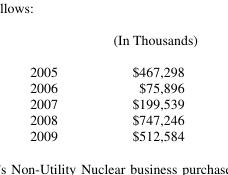table: (29, 29, 196, 144)
table column: (84, 29, 196, 144), (29, 29, 84, 144)
table column header: (29, 29, 196, 54)
table row: (29, 29, 196, 54), (29, 54, 196, 78), (29, 110, 196, 127), (29, 127, 196, 144), (29, 78, 196, 94), (29, 94, 196, 110)
